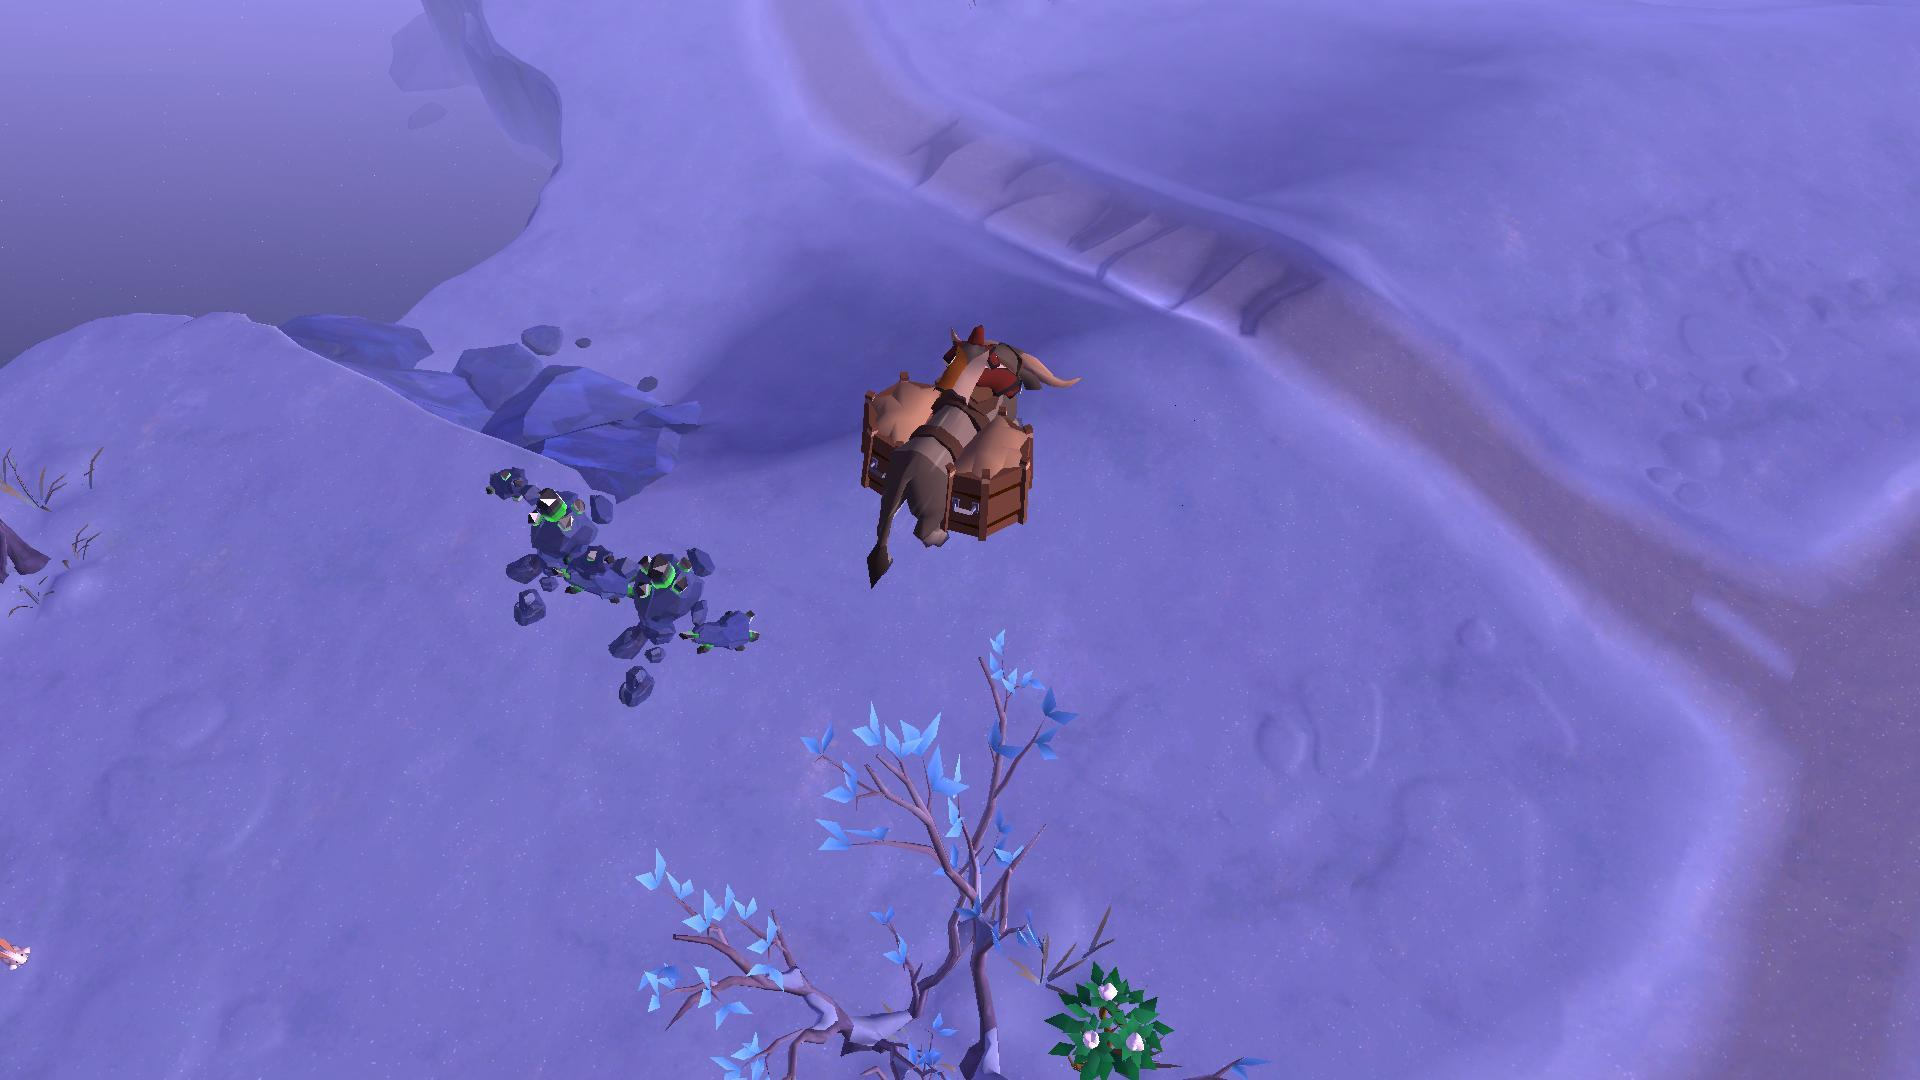fiber_t3: (1046, 959, 1163, 1080)
